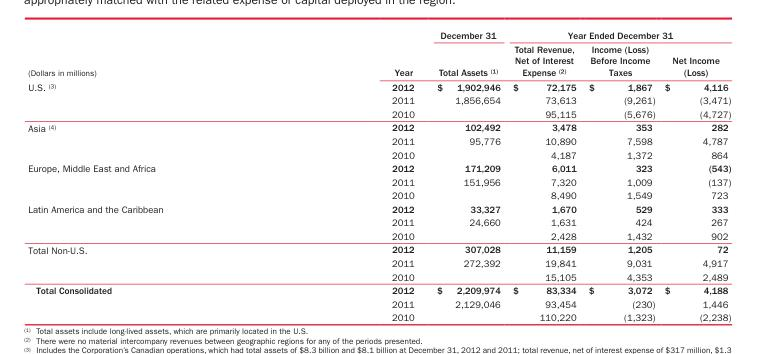table: (27, 29, 730, 322)
table column: (27, 29, 276, 322), (276, 29, 425, 322), (425, 29, 506, 322), (581, 29, 659, 322), (506, 29, 581, 322), (659, 29, 730, 322)
table column header: (27, 29, 730, 79)
table row: (27, 41, 730, 79), (27, 79, 730, 93), (27, 93, 730, 107), (27, 120, 730, 134), (27, 147, 730, 161), (27, 174, 730, 188), (27, 201, 730, 215), (27, 228, 730, 242), (27, 242, 730, 256), (27, 269, 730, 283), (27, 296, 730, 310), (27, 107, 730, 120), (27, 134, 730, 147), (27, 161, 730, 174), (27, 188, 730, 201), (27, 215, 730, 228), (27, 256, 730, 269), (27, 283, 730, 296), (27, 29, 730, 41), (27, 310, 730, 322)
table spanning cell: (27, 29, 276, 79), (276, 29, 425, 79), (425, 29, 506, 79), (506, 29, 730, 41)
